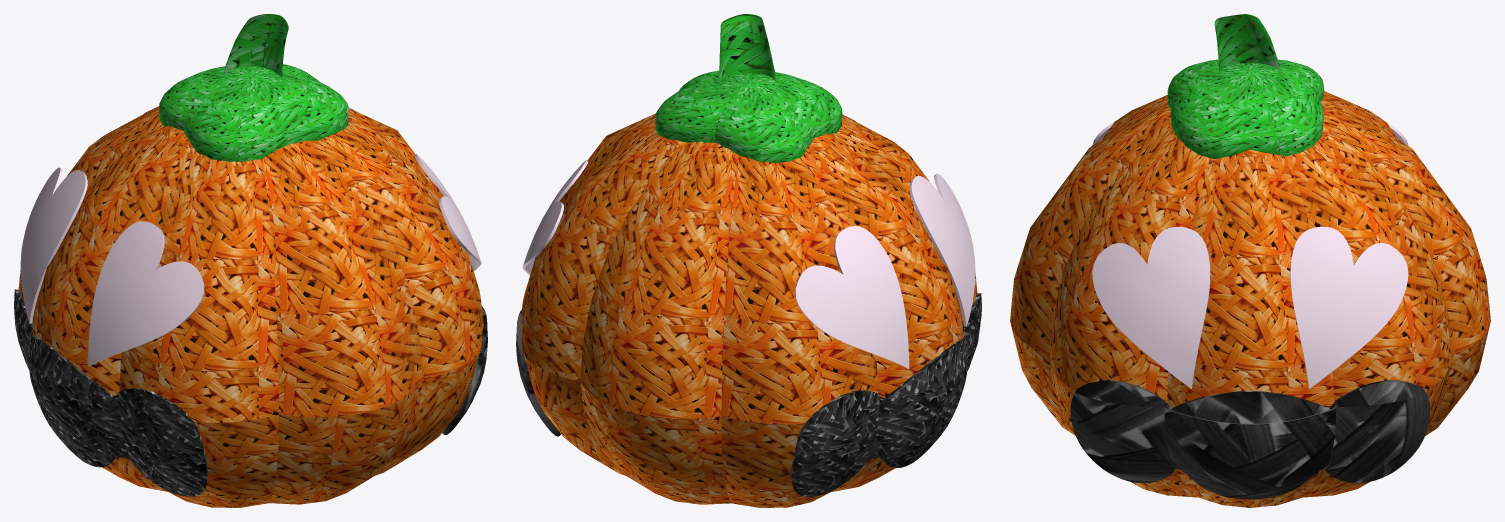
Rendered from pumkin.glb.
3 views of the same model, side by side, from view 1: azimuth 30°, elevation 25°; view 2: azimuth 150°, elevation 25°; view 3: azimuth 270°, elevation 25° (orthographic). The views are drawn at different scales.
Visible parts, largest first — view 1: Node; view 2: Node; view 3: Node.
Part boxes in pixels (x1,y1,x2,y2): Node: (14,14,487,507); Node: (516,14,981,507); Node: (1010,14,1490,507).
Size of the model in its own units: 154 by 149 by 152.
4 materials, 3 textured.
